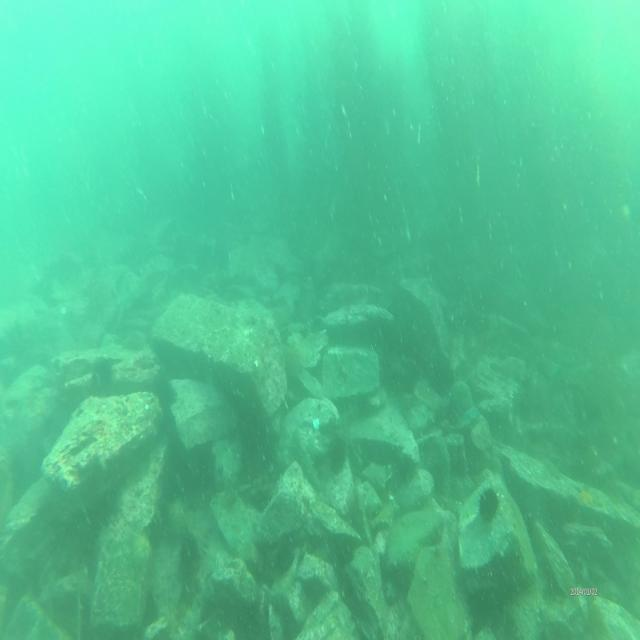echinus: (473, 483, 501, 527), (129, 527, 154, 570), (326, 432, 349, 476), (180, 526, 200, 567), (90, 352, 112, 389), (273, 538, 295, 572)
starfish: (579, 483, 594, 510)
